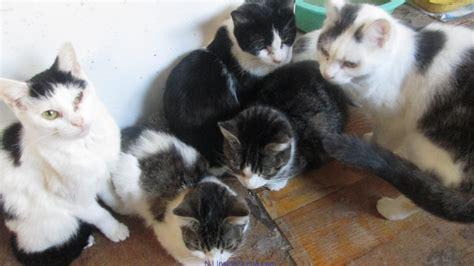cat: (314, 1, 474, 223), (1, 41, 128, 266), (165, 1, 298, 146), (117, 126, 250, 265), (218, 80, 346, 190)
